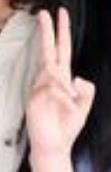front: (21, 4, 101, 150)
